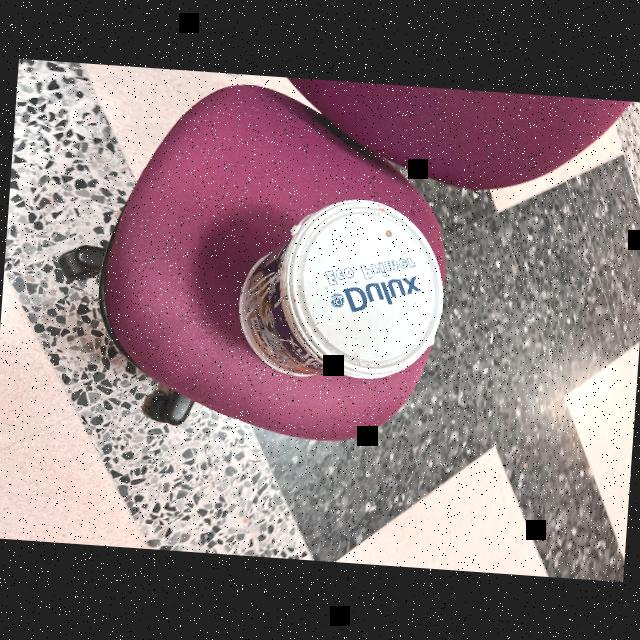paint_bucket: (228, 188, 449, 388)
